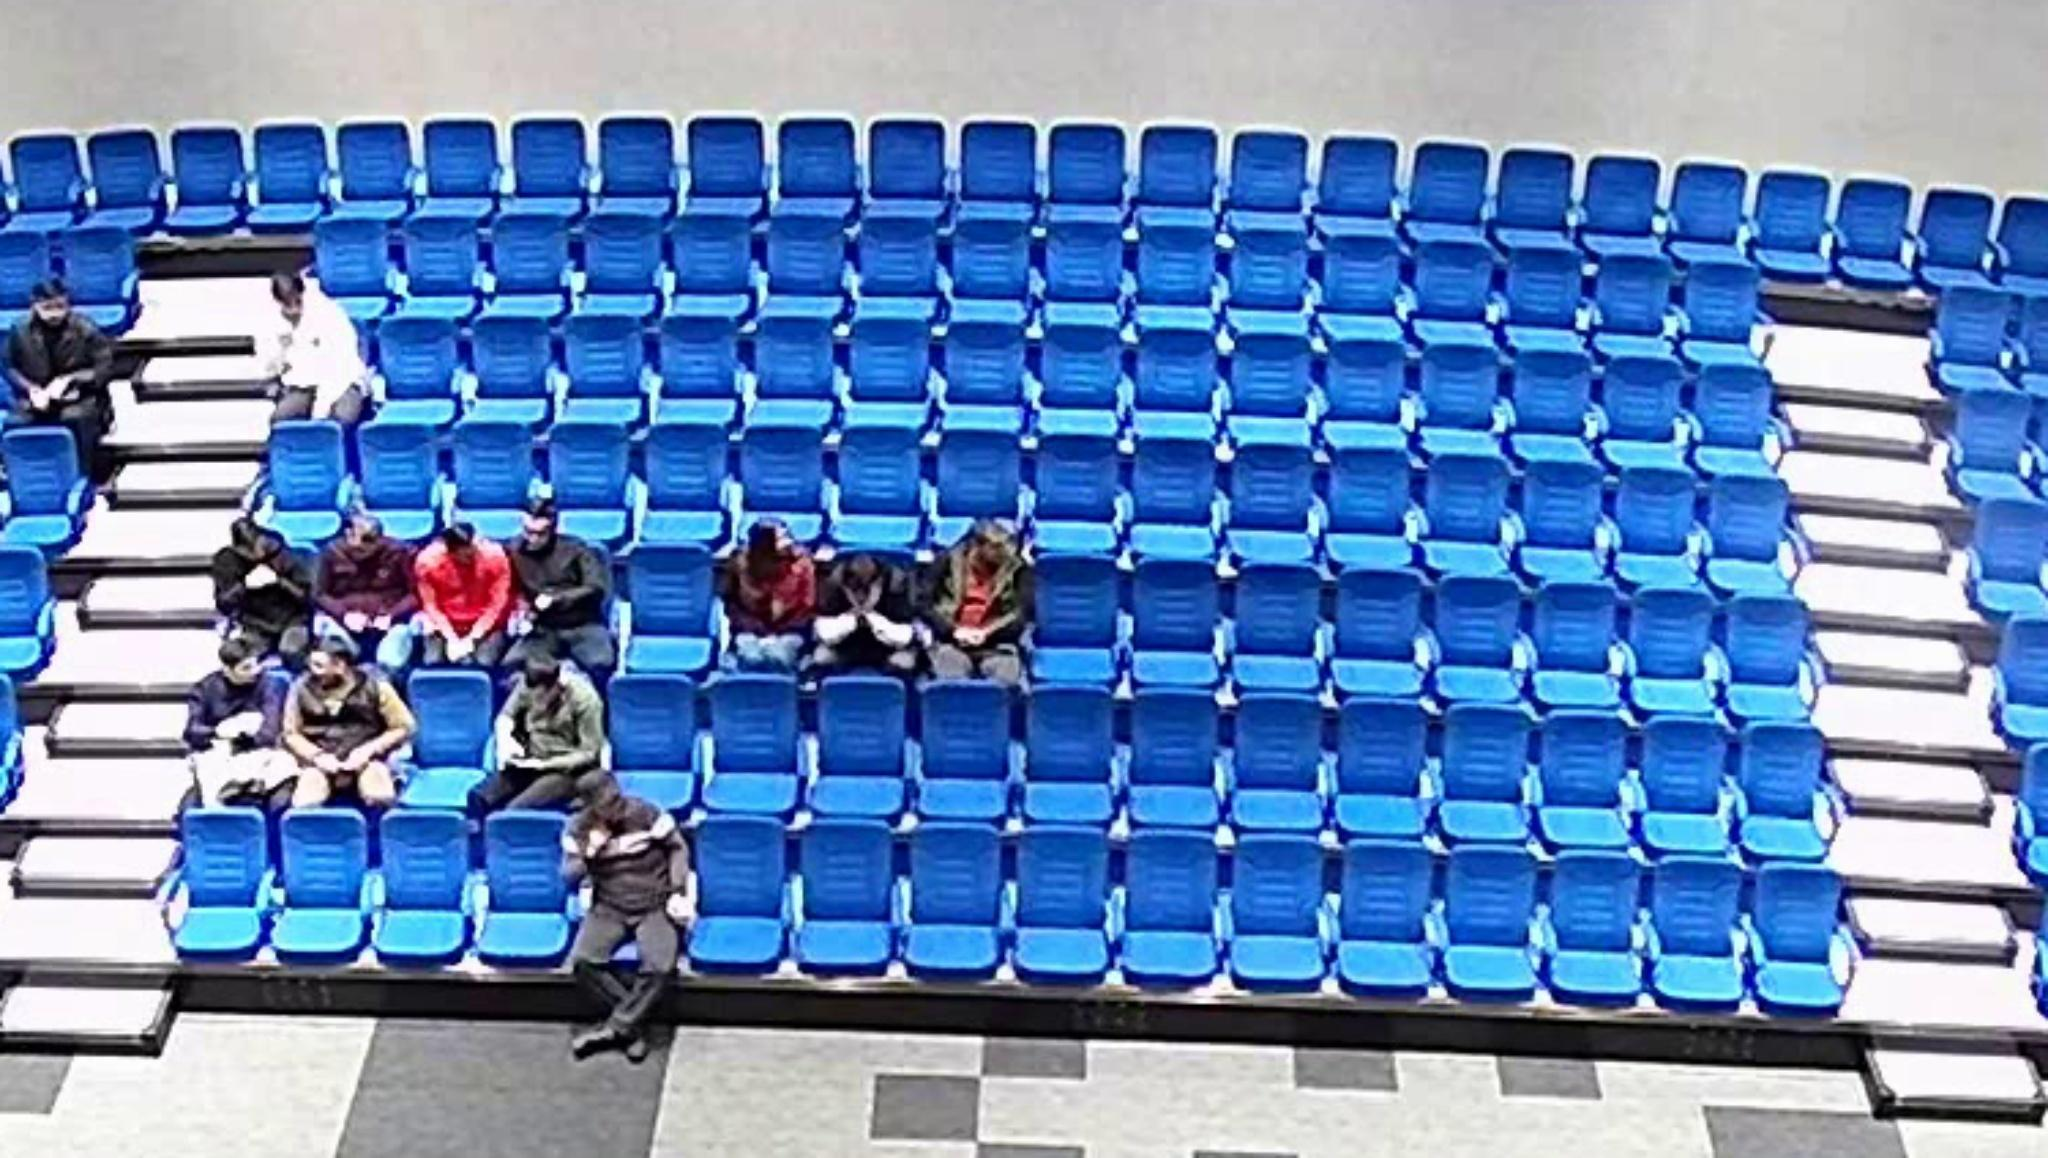empty: (364, 809, 475, 968), (470, 810, 580, 969), (1006, 823, 1118, 978), (260, 812, 371, 968), (1436, 843, 1546, 999), (1114, 829, 1221, 988), (165, 809, 274, 964), (791, 813, 896, 974), (1224, 832, 1335, 984), (1737, 861, 1851, 1006), (685, 810, 793, 962), (1636, 850, 1746, 999), (1536, 846, 1646, 995), (903, 816, 1010, 968), (1333, 839, 1439, 989), (599, 670, 703, 813), (700, 667, 803, 812), (1328, 695, 1435, 830), (1433, 698, 1537, 833), (1224, 691, 1329, 823), (1528, 705, 1632, 836), (405, 664, 498, 806), (911, 673, 1014, 801), (1016, 681, 1118, 808), (255, 425, 353, 554), (1629, 712, 1732, 836), (1124, 685, 1225, 810), (617, 543, 713, 675), (813, 668, 910, 795), (1729, 718, 1827, 837), (1423, 566, 1523, 681), (1964, 492, 2048, 629), (1618, 581, 1719, 694), (1329, 561, 1428, 677), (1941, 383, 2037, 501), (736, 418, 834, 530), (1319, 440, 1418, 553), (940, 208, 1032, 326), (1228, 559, 1325, 671), (1746, 166, 1837, 284), (1128, 552, 1224, 664), (830, 421, 926, 533), (1526, 575, 1622, 687), (1419, 446, 1515, 557), (1516, 452, 1612, 563), (484, 208, 577, 322), (1826, 174, 1917, 290), (1028, 552, 1124, 661), (847, 212, 942, 322), (1928, 276, 2020, 390), (1716, 587, 1812, 695), (450, 412, 542, 525), (1698, 469, 1793, 575), (322, 118, 416, 227), (542, 419, 634, 529), (1225, 436, 1321, 542), (391, 208, 478, 324), (246, 120, 336, 231), (0, 431, 84, 549), (1222, 328, 1318, 432), (77, 125, 165, 239), (639, 418, 730, 526), (1409, 236, 1501, 345), (49, 219, 142, 325), (357, 411, 447, 519), (1128, 432, 1220, 537), (1506, 335, 1596, 442), (1032, 315, 1125, 418), (949, 115, 1042, 218), (1224, 227, 1317, 329), (1609, 460, 1701, 564), (1416, 333, 1508, 438), (1129, 321, 1221, 425), (771, 115, 862, 219), (930, 426, 1020, 532), (1037, 218, 1132, 315), (1027, 436, 1121, 535), (748, 312, 843, 411), (1321, 329, 1412, 431), (1595, 346, 1685, 449), (675, 115, 765, 218), (1222, 124, 1312, 227), (498, 114, 587, 218), (861, 115, 951, 217), (1039, 118, 1129, 219), (1132, 121, 1222, 222), (374, 310, 467, 407), (1687, 357, 1775, 459), (1677, 245, 1762, 349), (935, 317, 1027, 414), (665, 210, 757, 307), (166, 121, 242, 238), (1587, 248, 1675, 348), (1400, 139, 1488, 239), (844, 314, 934, 411), (651, 305, 741, 402), (464, 307, 553, 405), (311, 210, 398, 310), (589, 115, 675, 217), (1581, 153, 1667, 255), (1664, 158, 1750, 259), (416, 118, 498, 224), (764, 210, 852, 305), (557, 305, 646, 401), (578, 208, 667, 304), (1312, 136, 1401, 232), (1325, 229, 1405, 335), (1502, 239, 1588, 336), (1491, 146, 1577, 243), (1135, 215, 1218, 314), (1917, 184, 1996, 284), (6, 132, 79, 235), (0, 542, 59, 668), (1993, 619, 2048, 737), (1996, 194, 2048, 297), (1, 225, 52, 329)
